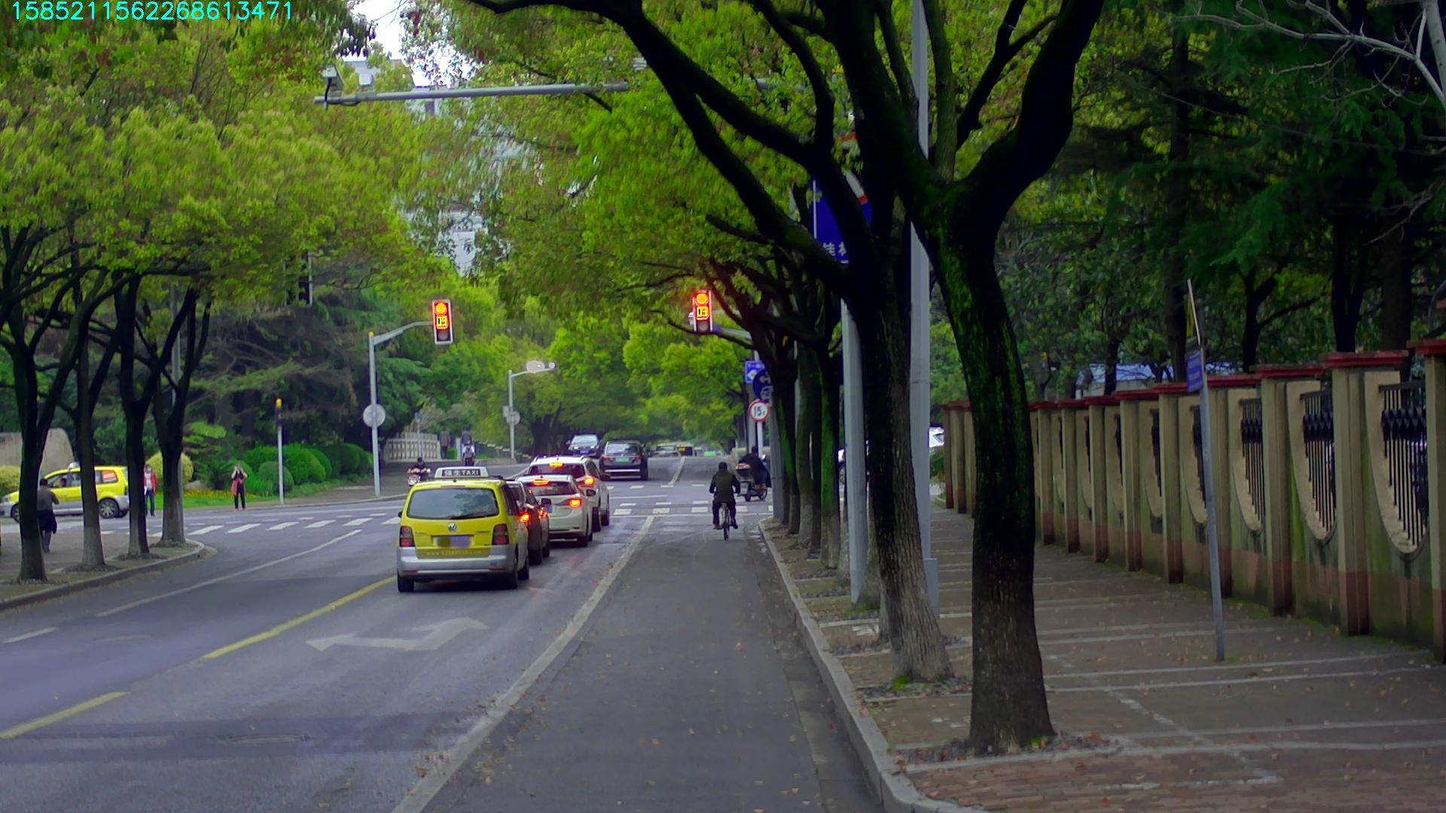red: (432, 299, 451, 343), (692, 289, 711, 332)
